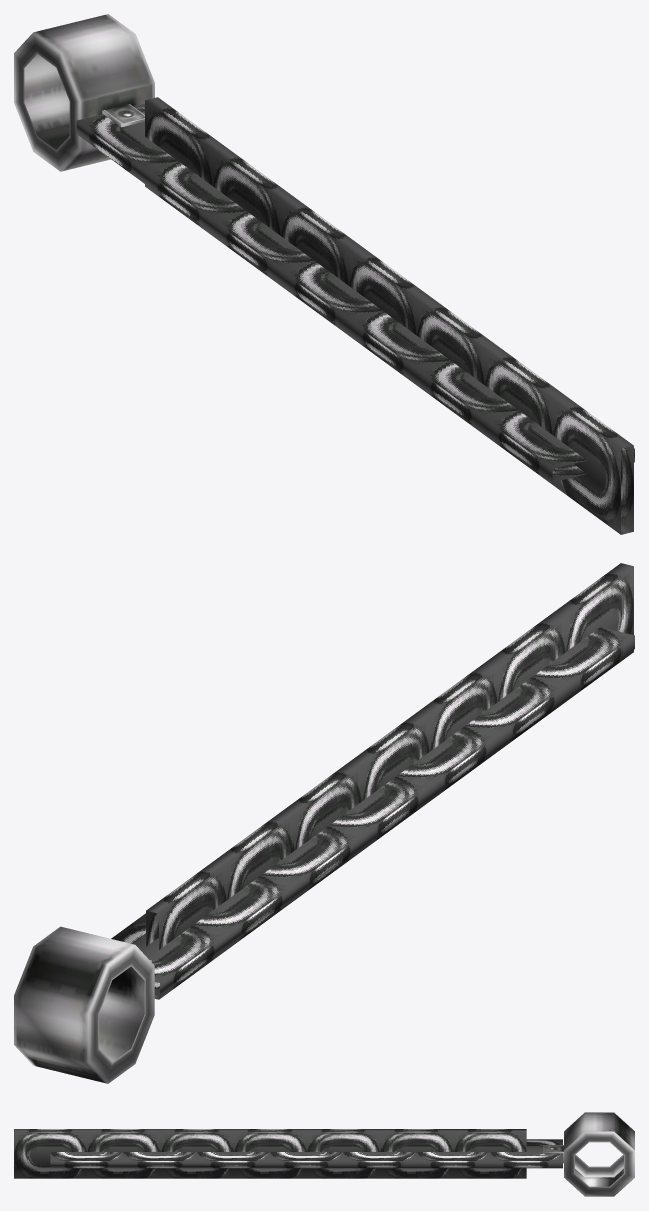
Rendered from INST_SWORDLIGHT_CHAINCUFFS.fbx.
The picture shows the model from 3 angles, top to bottom: view 1: azimuth 30°, elevation 25°; view 2: azimuth 150°, elevation 25°; view 3: azimuth 270°, elevation 25°; orthographic projection. The views are drawn at different scales.
Visible parts, largest first — view 1: INST_SWORDLIGHT_CHAINCUFFS; view 2: INST_SWORDLIGHT_CHAINCUFFS; view 3: INST_SWORDLIGHT_CHAINCUFFS.
Boxes of the visible parts, x1,y1,x2,y2 form: INST_SWORDLIGHT_CHAINCUFFS: [14, 14, 634, 534]; INST_SWORDLIGHT_CHAINCUFFS: [14, 563, 634, 1083]; INST_SWORDLIGHT_CHAINCUFFS: [14, 1112, 634, 1196].
Size of the model in its own units: 1000 by 1385 by 12114.
Materials: 2 (2 with a texture image).
